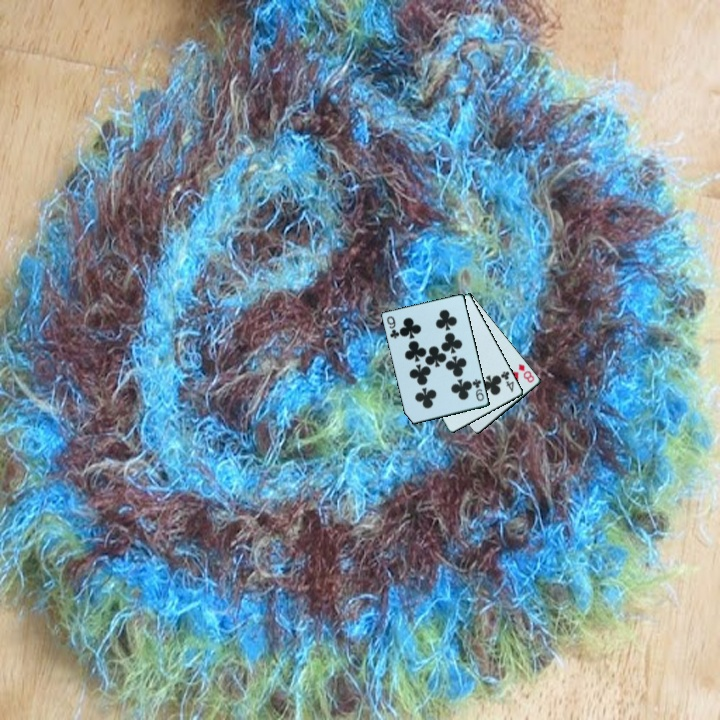4c: (497, 368, 517, 395)
8d: (515, 360, 537, 385)
9c: (469, 376, 487, 404), (384, 313, 401, 342)
